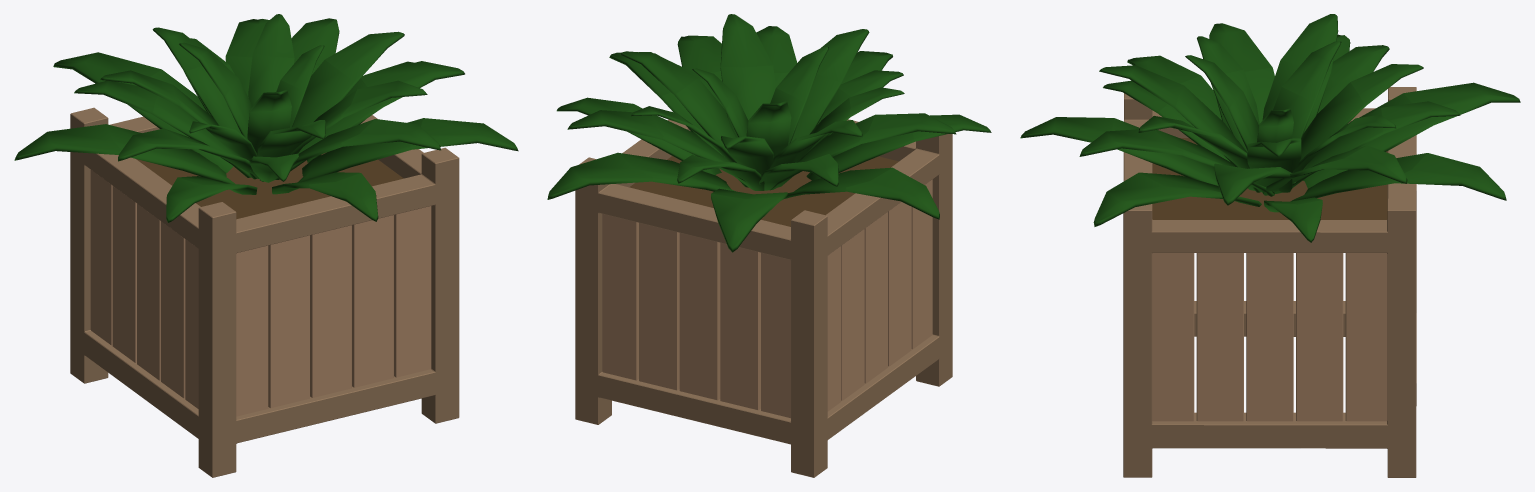
The model's file is planter.glb.
3 renders of one model, left to right at view 1: azimuth 30°, elevation 25°; view 2: azimuth 150°, elevation 25°; view 3: azimuth 270°, elevation 25°, orthographic. The views are drawn at different scales.
Parts seen in each view (by area): view 1: PlanterPanels, PlanterPlant, PlanterFrame, PlanterSoil; view 2: PlanterPlant, PlanterPanels, PlanterFrame, PlanterSoil; view 3: PlanterPlant, PlanterPanels, PlanterFrame, PlanterSoil.
Boxes of the visible parts, x1,y1,x2,y2 form: PlanterPanels: [90, 170, 431, 416]; PlanterPlant: [14, 14, 518, 222]; PlanterFrame: [70, 107, 459, 477]; PlanterSoil: [136, 152, 403, 219]; PlanterPlant: [547, 14, 991, 252]; PlanterPanels: [602, 179, 932, 418]; PlanterFrame: [575, 119, 952, 477]; PlanterSoil: [629, 156, 898, 226]; PlanterPlant: [1020, 14, 1520, 242]; PlanterPanels: [1152, 253, 1387, 421]; PlanterFrame: [1123, 87, 1416, 477]; PlanterSoil: [1152, 138, 1387, 219].
Bounding box in the file's own units: 1.5 × 1.19 × 1.55.
